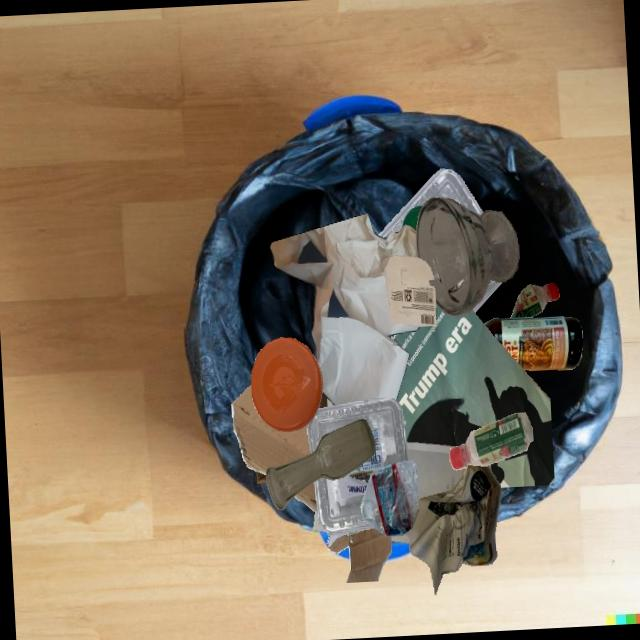cardboard: (232, 384, 311, 475), (252, 370, 320, 475), (327, 528, 392, 583)
glass: (416, 197, 520, 317), (266, 419, 376, 510), (484, 317, 582, 370), (343, 531, 360, 535)
paper: (390, 304, 555, 487), (270, 213, 420, 406), (406, 465, 501, 595), (318, 485, 456, 543), (385, 255, 436, 326), (407, 442, 463, 485)
plastic: (307, 398, 409, 535), (378, 169, 483, 238), (251, 337, 323, 432), (449, 412, 533, 470), (360, 461, 419, 537), (511, 283, 559, 318), (402, 206, 423, 230)
